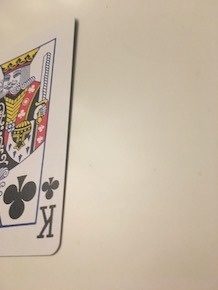KingOfClubs: (1, 14, 78, 258)
